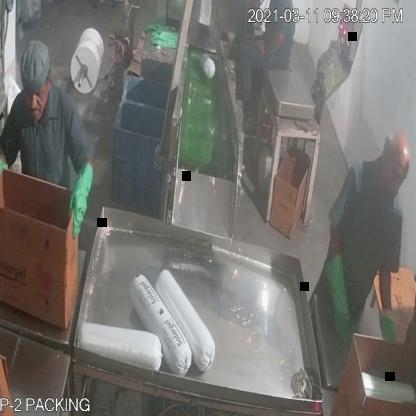glove: (320, 244, 358, 352), (65, 158, 98, 240)
no_glove: (252, 24, 288, 60)
